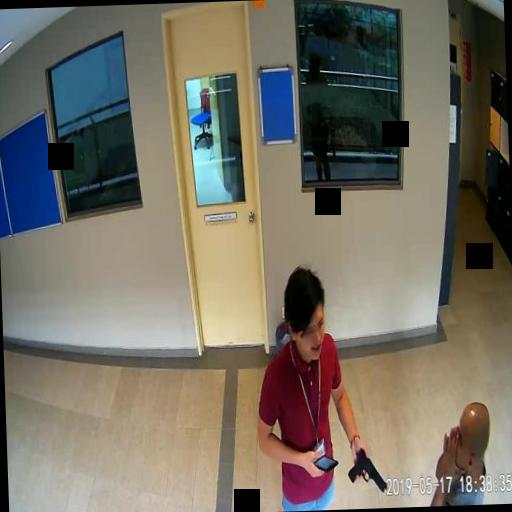Handgun: (344, 443, 386, 492)
